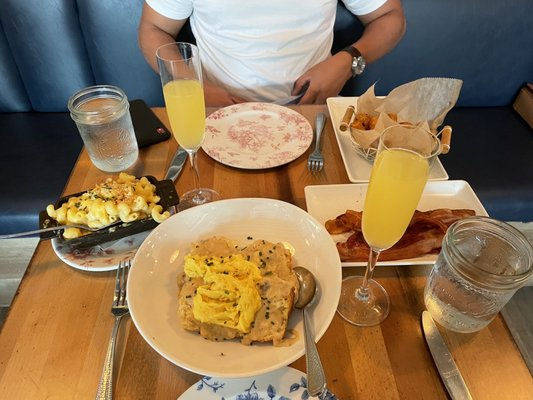sandwich: (419, 308, 474, 400)
sushi: (126, 198, 342, 388)
